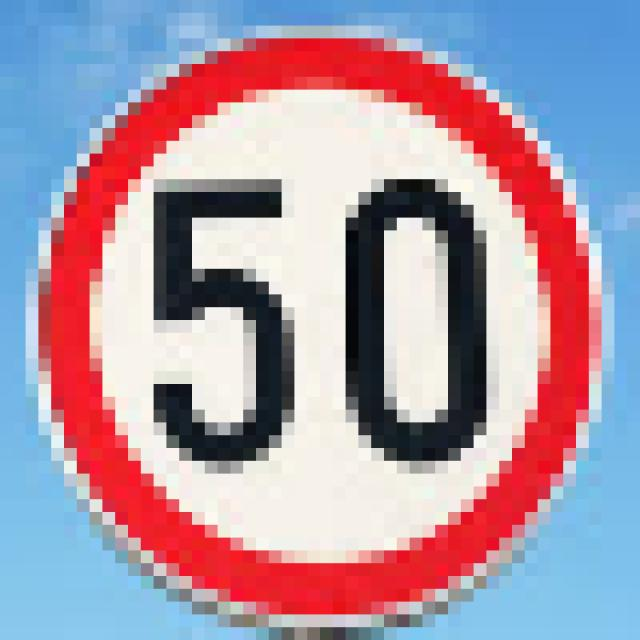Limite-50: (26, 22, 608, 631)
